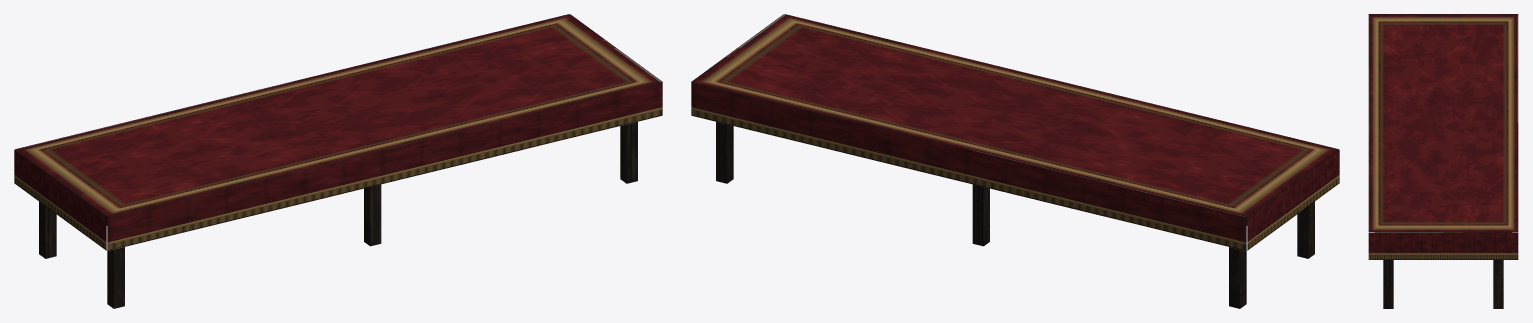
The model's file is Furn_Table_Dining.fbx.
3 renders of one model, left to right at view 1: azimuth 30°, elevation 25°; view 2: azimuth 150°, elevation 25°; view 3: azimuth 270°, elevation 25°, orthographic. The views are drawn at different scales.
Visible parts, largest first — view 1: Furn_Table_Dining; view 2: Furn_Table_Dining; view 3: Furn_Table_Dining.
Part boxes in pixels (<box>): Furn_Table_Dining: <box>14,14,662,308</box>; Furn_Table_Dining: <box>691,14,1339,308</box>; Furn_Table_Dining: <box>1368,14,1518,308</box>.
Bounding box in the file's own units: 4.51 × 0.79 × 1.31.
